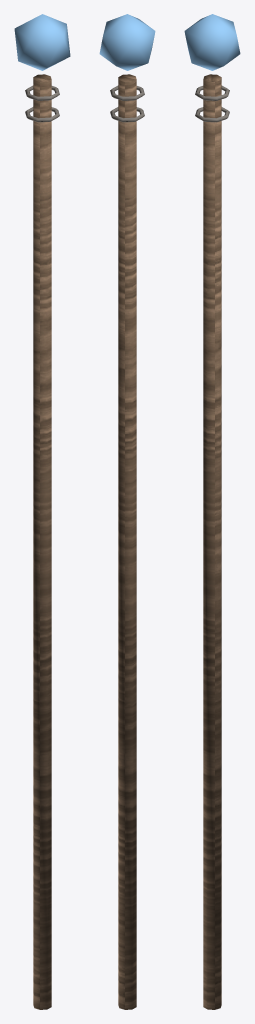
The model's file is crystal_staff.fbx.
3 renders of one model, left to right at view 1: azimuth 30°, elevation 25°; view 2: azimuth 210°, elevation 25°; view 3: azimuth 330°, elevation 25°, orthographic.
Visible parts, largest first — view 1: crystal_staff; view 2: crystal_staff; view 3: crystal_staff.
Part boxes in pixels (x1,y1,x2,y2): crystal_staff: (14,14,70,1009); crystal_staff: (99,14,155,1009); crystal_staff: (184,14,240,1009).
Bounding box in the file's own units: 0.0716 × 1.39 × 0.0681.
Materials: 3 (1 with a texture image).
